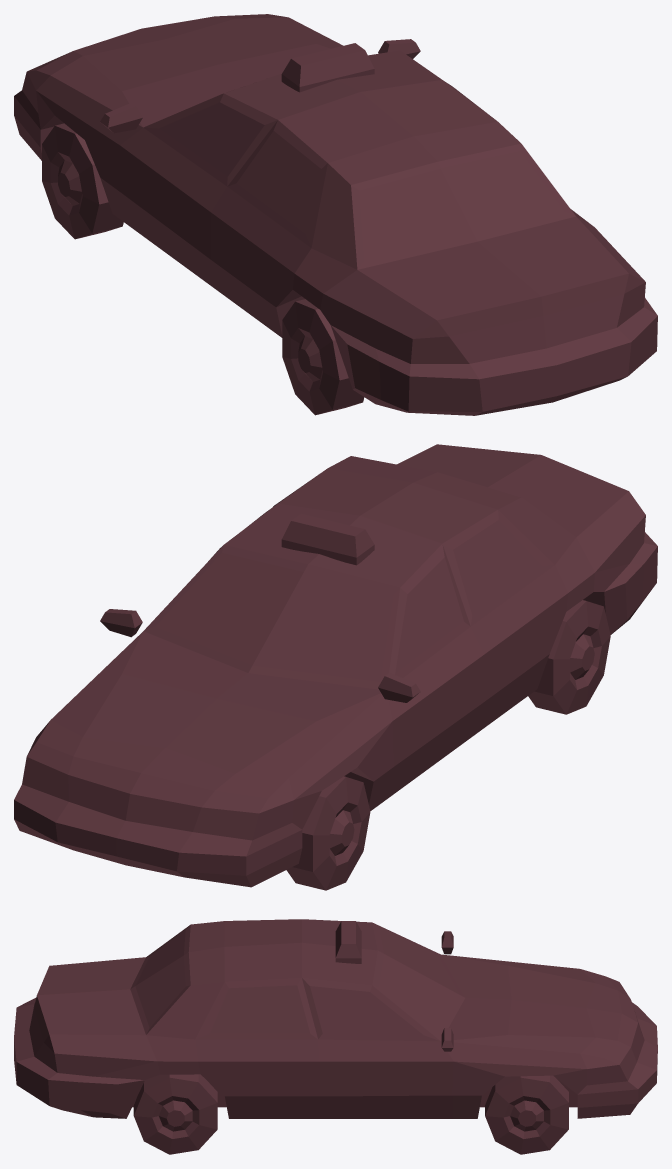
File: car-taxi2.fbx
The picture shows the model from 3 angles, top to bottom: view 1: azimuth 30°, elevation 25°; view 2: azimuth 150°, elevation 25°; view 3: azimuth 270°, elevation 25°; orthographic projection. The views are drawn at different scales.
Visible parts, largest first — view 1: car-taxi2; view 2: car-taxi2; view 3: car-taxi2.
Boxes of the visible parts, left/top/right/bottom form: car-taxi2: left=14, top=14, right=657, bottom=415; car-taxi2: left=14, top=444, right=657, bottom=890; car-taxi2: left=14, top=919, right=657, bottom=1154.
Bounding box in the file's own units: 0.3727 × 0.2711 × 0.9093.
